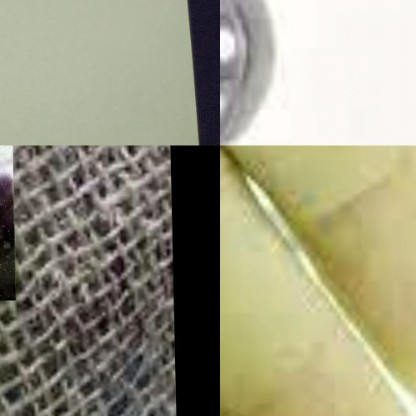ironball: (219, 0, 280, 141)
